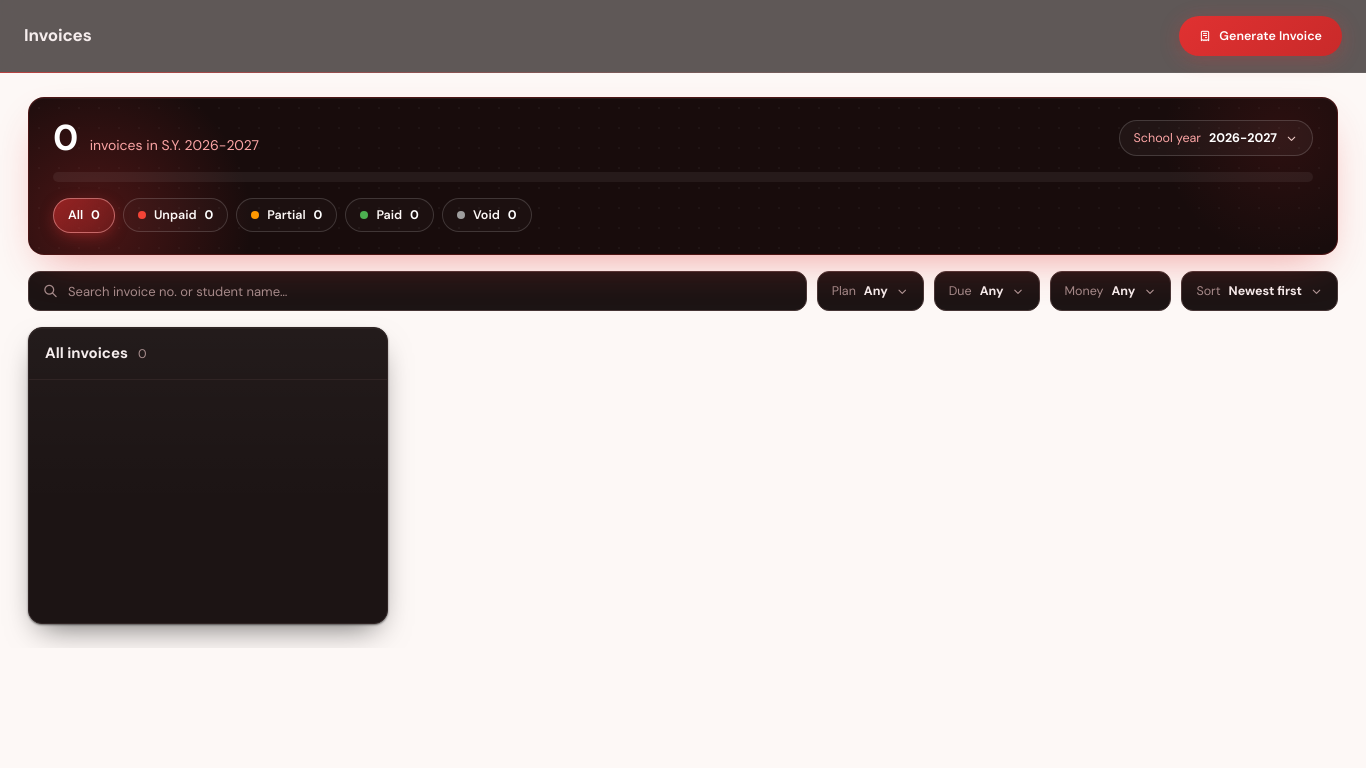
Test case: Invoices — dark mode › shows the Generate window's search results and its error
Click the button "Generate Invoice".
click(1260, 36)  # box 1179,16 -> 1342,56
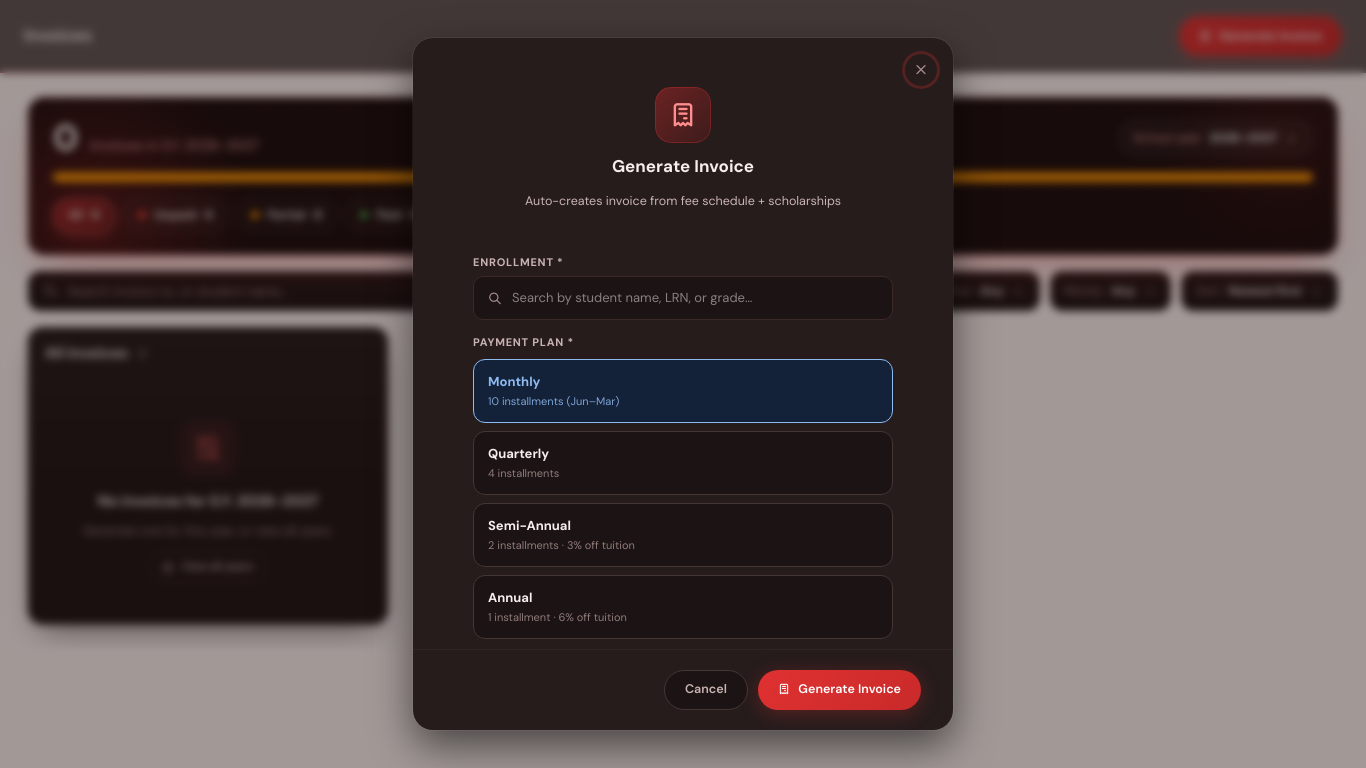
Type "Ana" into the field with placeholder "Search by student name, LRN, or grade…".
click(695, 298); type("Ana")  # box 512,288 -> 878,308
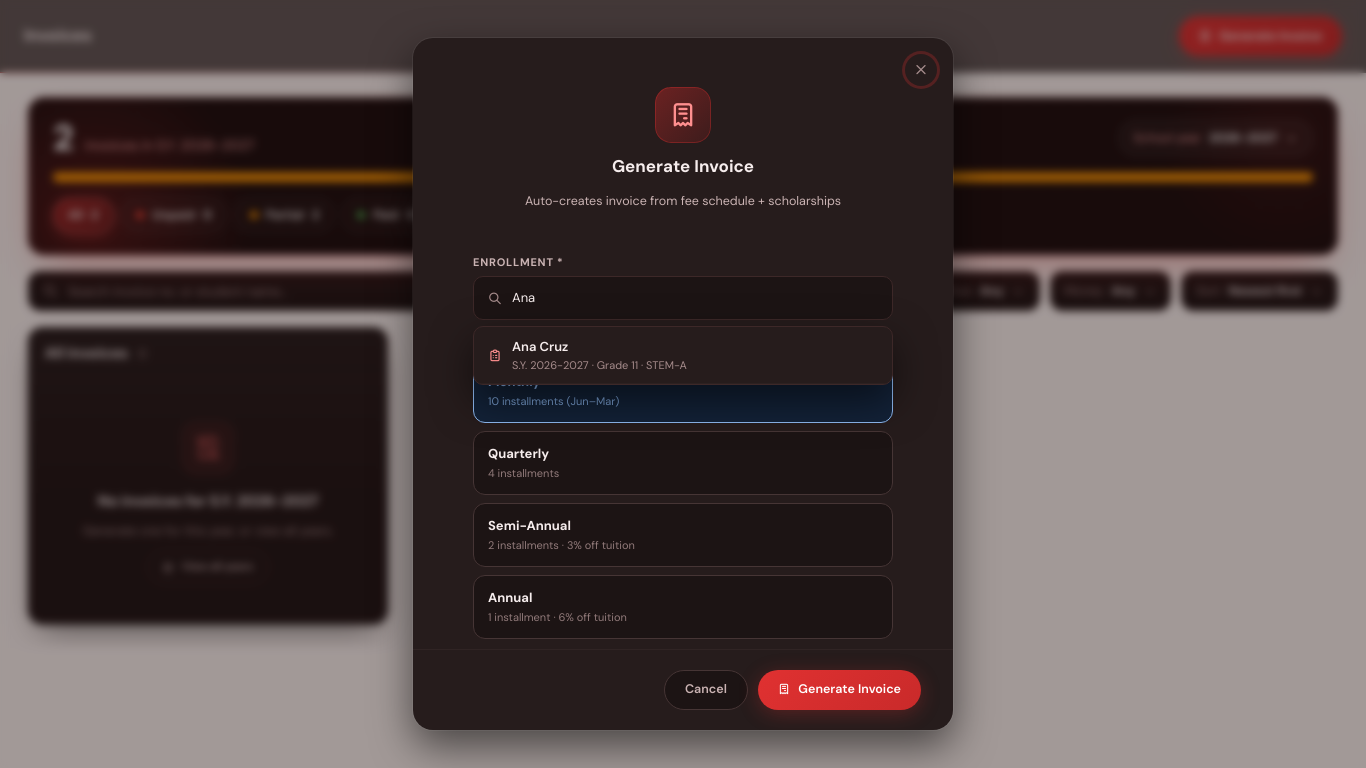
Click the text "Ana Cruz".
click(540, 346)  # box 512,338 -> 568,355
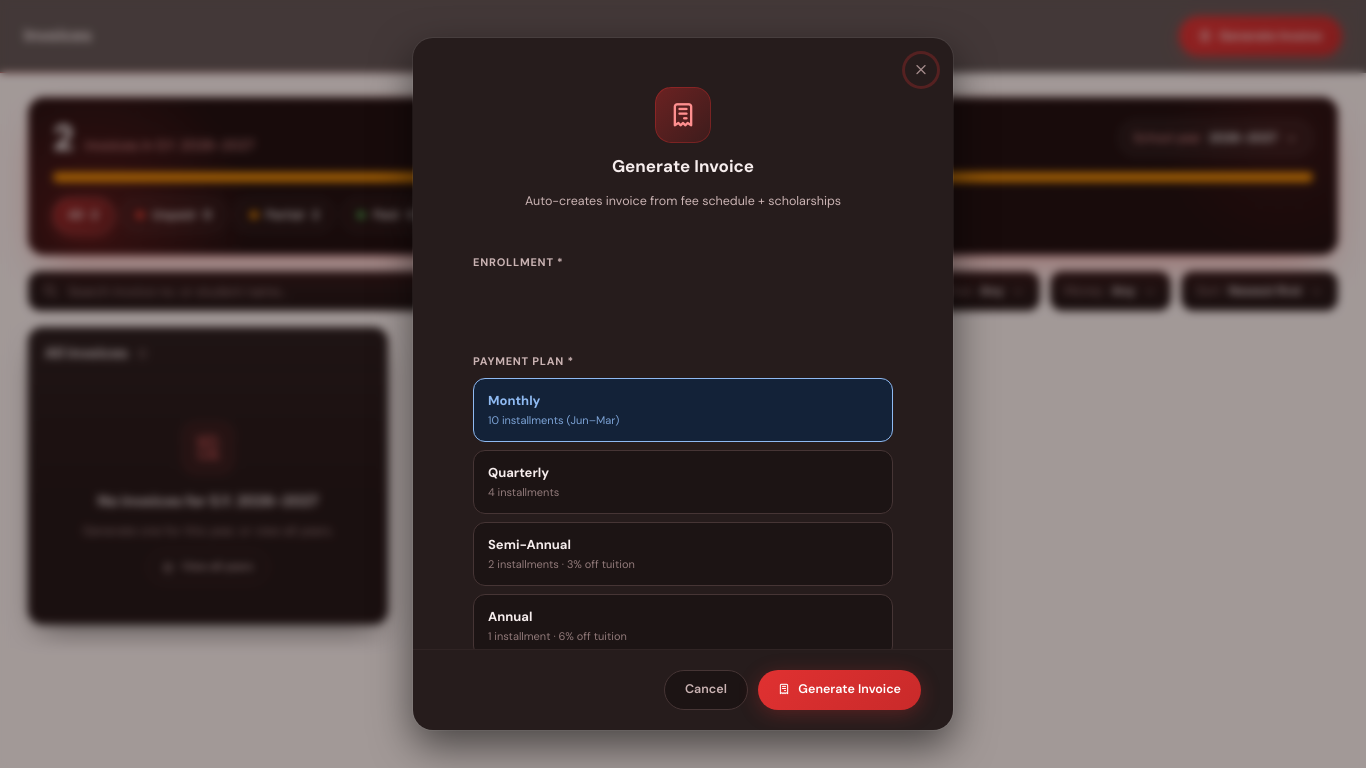
Click the button "Generate Invoice".
click(839, 690)  # box 758,670 -> 921,710
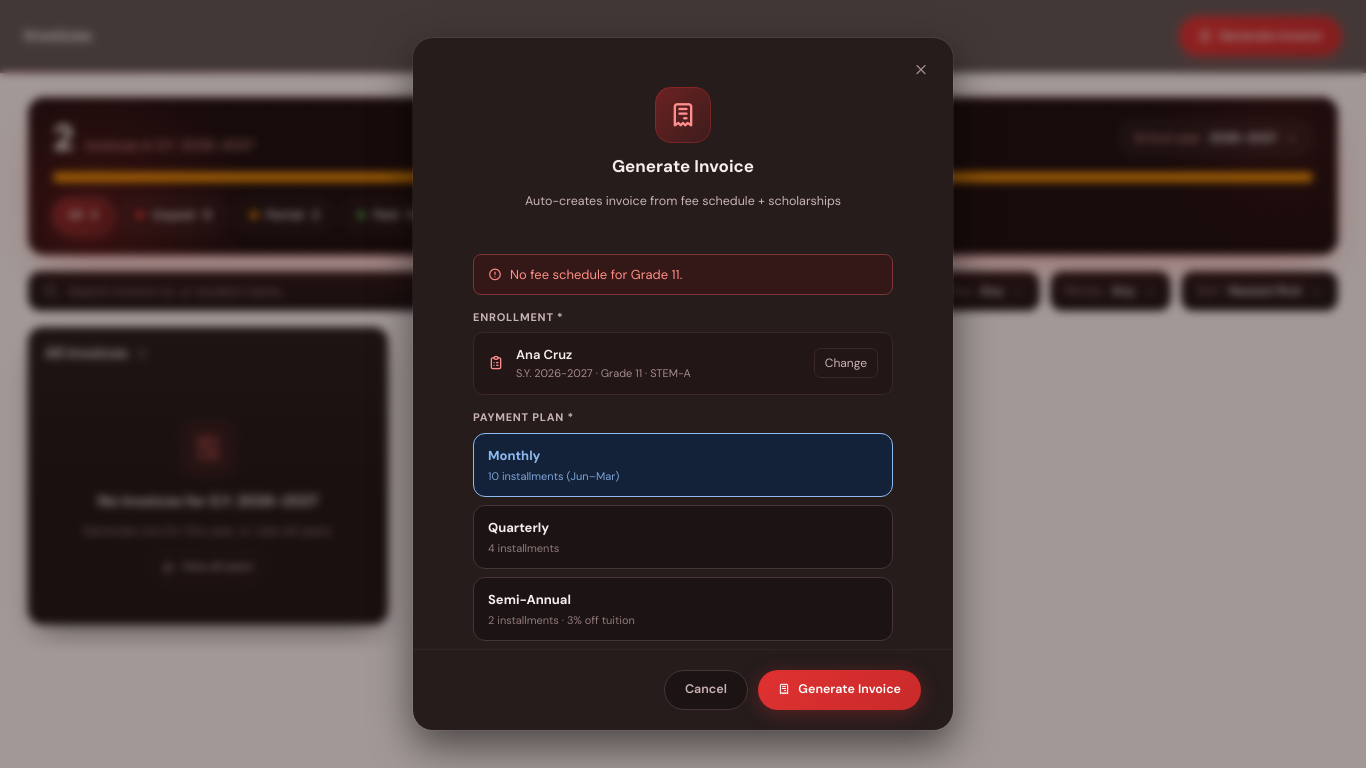
Expected: the text "No fee schedule for Grade 11." is shown, 510,266 -> 682,282
